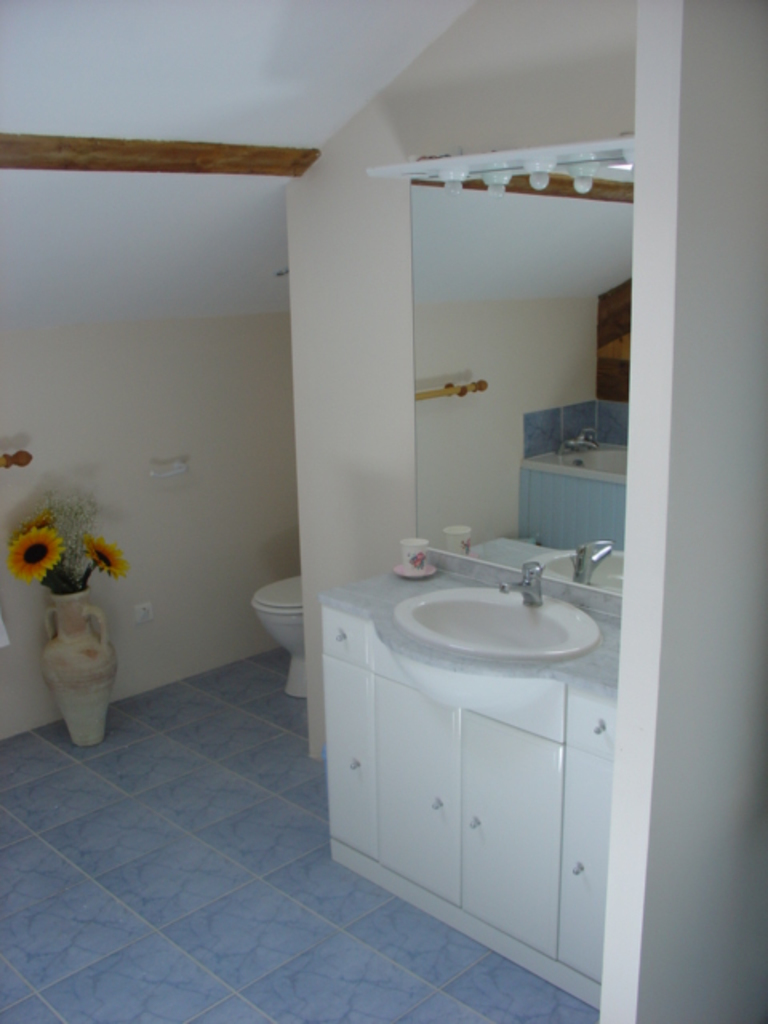tap: (499, 561, 540, 615)
